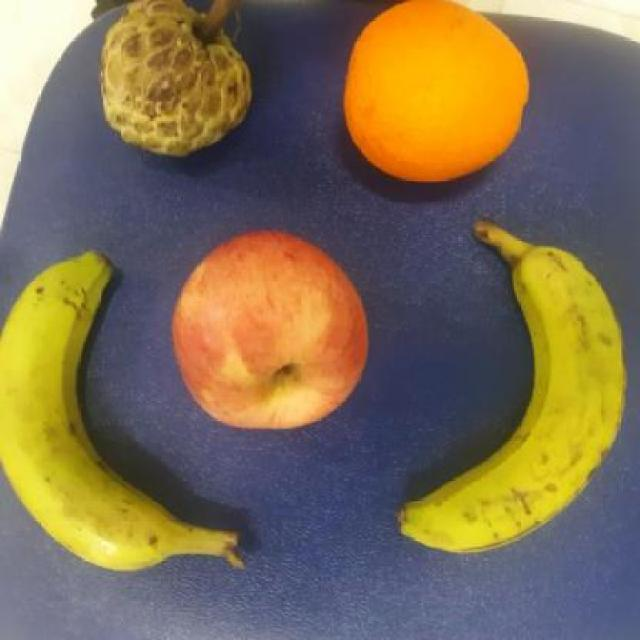apple: (170, 228, 378, 434)
banana: (388, 243, 637, 559), (1, 256, 178, 586)
oren: (338, 0, 532, 191)
sugar apple: (85, 0, 253, 168)
